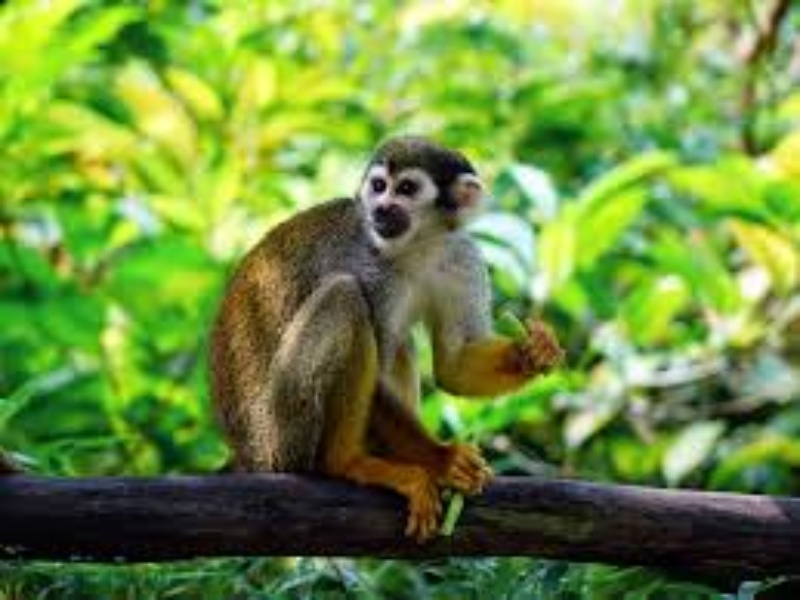monkey: (178, 113, 588, 566)
